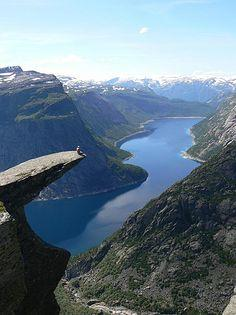mountain: (85, 159, 236, 308), (5, 71, 133, 178)
